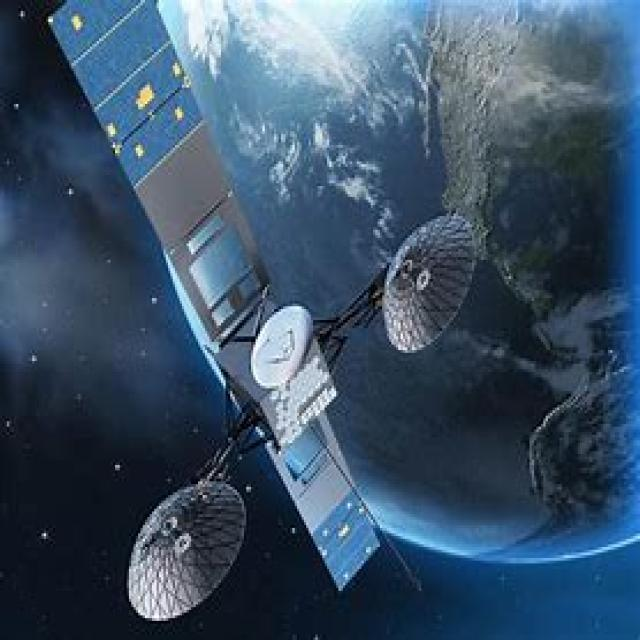satellite: (22, 0, 471, 639)
